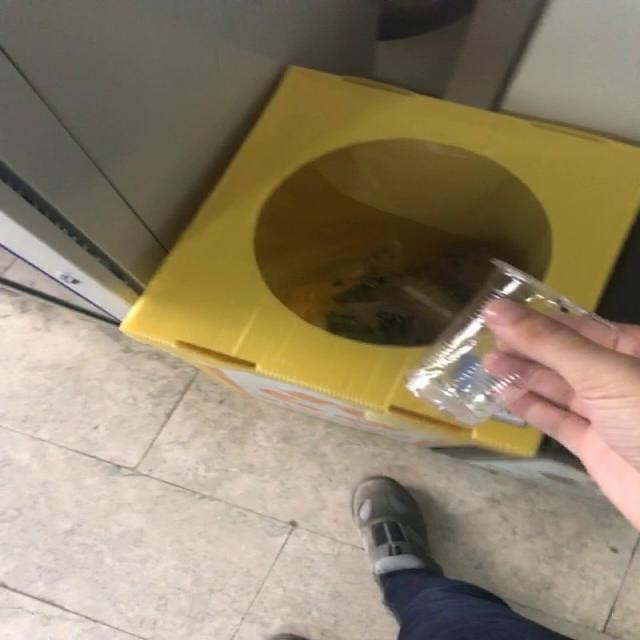Plastic: (407, 259, 612, 428)
